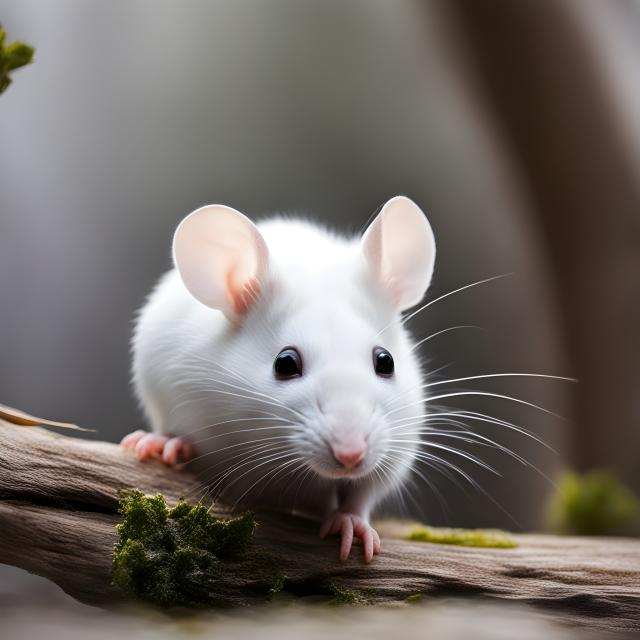rodents: (124, 171, 455, 559)
